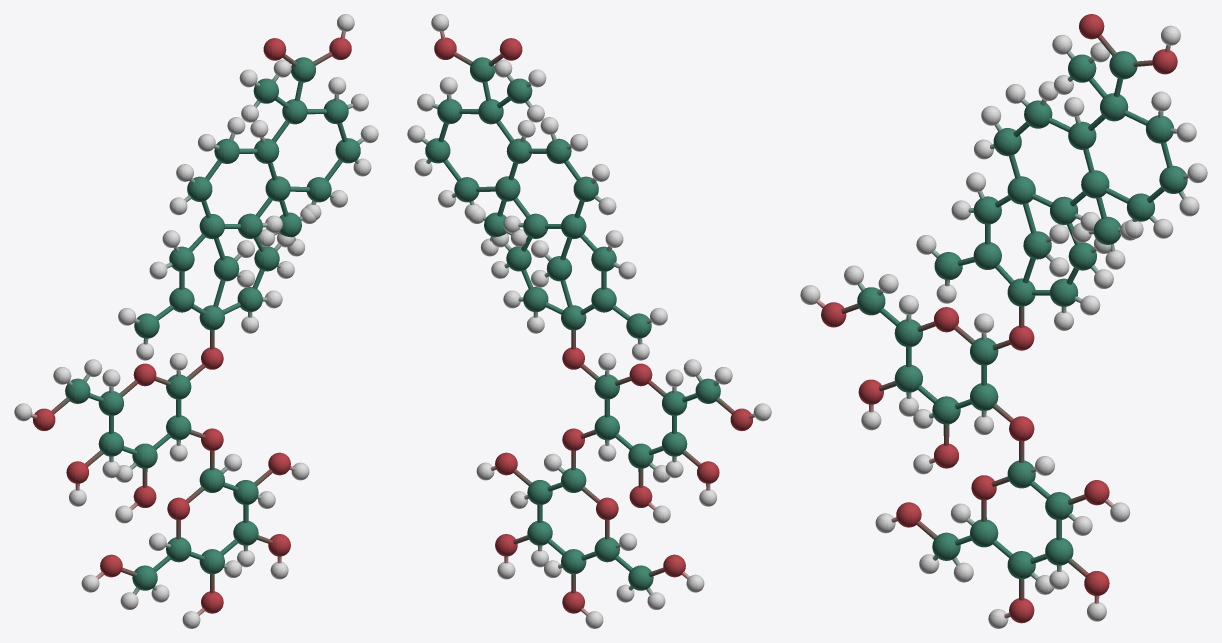
The model's file is Steviobioside.fbx.
The picture shows the model from 3 angles, left to right: view 1: azimuth 30°, elevation 25°; view 2: azimuth 150°, elevation 25°; view 3: azimuth 330°, elevation 25°; orthographic projection. The views are drawn at different scales.
Visible parts, largest first — view 1: curMeshHyperballExportedMesh; view 2: curMeshHyperballExportedMesh; view 3: curMeshHyperballExportedMesh.
Part boxes in pixels (bbox=[...]): curMeshHyperballExportedMesh: bbox=[14, 14, 378, 628]; curMeshHyperballExportedMesh: bbox=[407, 14, 771, 628]; curMeshHyperballExportedMesh: bbox=[800, 14, 1207, 628].
Size of the model in its own units: 9.32 by 14.16 by 0.5667.
